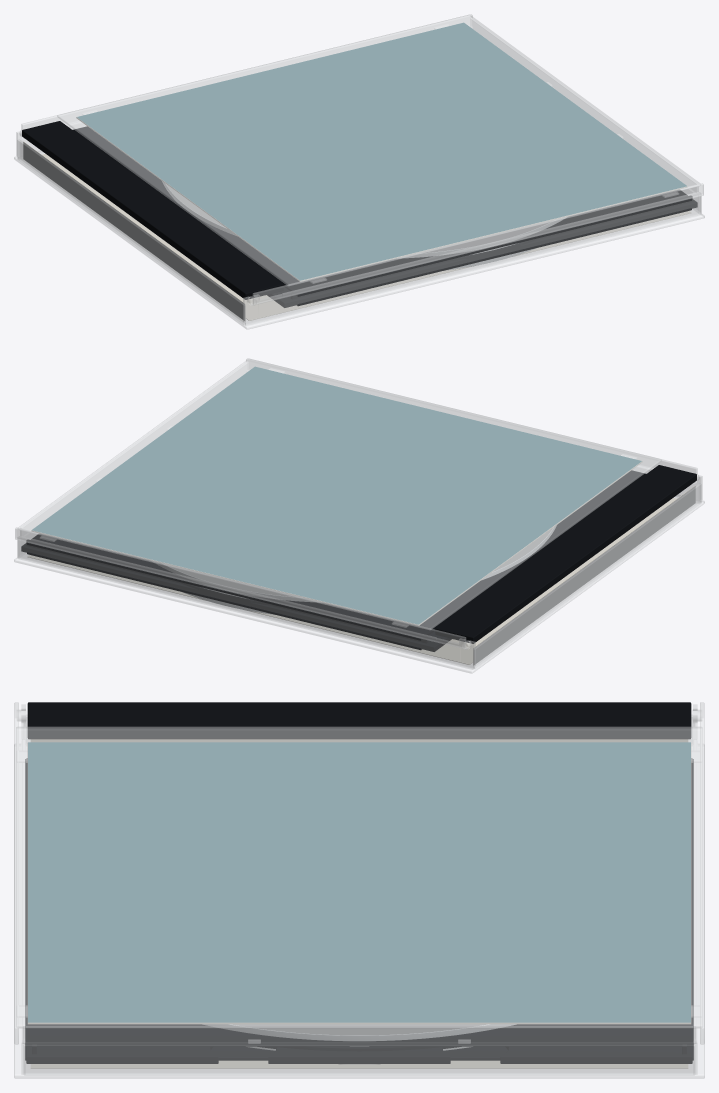
File: jewel-swing-4.glb
3 renders of one model, top to bottom at view 1: azimuth 30°, elevation 25°; view 2: azimuth 150°, elevation 25°; view 3: azimuth 270°, elevation 25°, orthographic. The views are drawn at different scales.
Visible parts, largest first — view 1: Lid_Hinge_Y__Polystyrene_Clear.002, Booklet_paper, Fixed_Base_And_Tray__Polystyrene_Clear.002, Fixed_spine_foundation, Double_sided_swing_frame, Spine_card_return, Fixed_Base_And_Tray__Tray_Graphite.004, Rear_card, CD_reflective_ring, Double_sided_swing_frame_extra; view 2: Lid_Hinge_Y__Polystyrene_Clear.002, Booklet_paper, Fixed_Base_And_Tray__Polystyrene_Clear.002, Fixed_spine_foundation, Double_sided_swing_frame, Spine_card_return, Fixed_Base_And_Tray__Tray_Graphite.004, Rear_card, CD_reflective_ring, Double_sided_swing_frame_extra; view 3: Lid_Hinge_Y__Polystyrene_Clear.002, Booklet_paper, Fixed_Base_And_Tray__Polystyrene_Clear.002, Fixed_spine_foundation, Double_sided_swing_frame, Fixed_Base_And_Tray__Tray_Graphite.004, CD_reflective_ring, Rear_card, Spine_card_return, Double_sided_swing_frame_extra.
Part boxes in pixels (x1,y1,x2,y2): Lid_Hinge_Y__Polystyrene_Clear.002: [19, 14, 703, 305]; Booklet_paper: [76, 22, 687, 281]; Fixed_Base_And_Tray__Polystyrene_Clear.002: [14, 121, 704, 329]; Fixed_spine_foundation: [22, 121, 283, 299]; Double_sided_swing_frame: [73, 126, 691, 296]; Spine_card_return: [23, 141, 245, 320]; Fixed_Base_And_Tray__Tray_Graphite.004: [267, 190, 697, 307]; Rear_card: [42, 154, 691, 320]; CD_reflective_ring: [162, 181, 566, 258]; Double_sided_swing_frame_extra: [297, 208, 691, 306]; Lid_Hinge_Y__Polystyrene_Clear.002: [15, 358, 699, 649]; Booklet_paper: [31, 366, 642, 625]; Fixed_Base_And_Tray__Polystyrene_Clear.002: [14, 465, 704, 673]; Fixed_spine_foundation: [435, 465, 696, 643]; Double_sided_swing_frame: [27, 470, 645, 640]; Spine_card_return: [473, 485, 695, 664]; Fixed_Base_And_Tray__Tray_Graphite.004: [21, 534, 451, 651]; Rear_card: [27, 498, 676, 664]; CD_reflective_ring: [152, 525, 556, 602]; Double_sided_swing_frame_extra: [27, 552, 421, 650]; Lid_Hinge_Y__Polystyrene_Clear.002: [14, 702, 704, 1044]; Booklet_paper: [27, 742, 691, 1024]; Fixed_Base_And_Tray__Polystyrene_Clear.002: [14, 704, 704, 1078]; Fixed_spine_foundation: [27, 702, 691, 739]; Double_sided_swing_frame: [25, 759, 693, 1046]; Fixed_Base_And_Tray__Tray_Graphite.004: [26, 758, 692, 1063]; CD_reflective_ring: [202, 1024, 516, 1041]; Rear_card: [30, 1060, 688, 1068]; Spine_card_return: [30, 739, 688, 742]; Double_sided_swing_frame_extra: [25, 1046, 693, 1060].
Size of the model in its own units: 0.142 by 0.0104 by 0.125.
